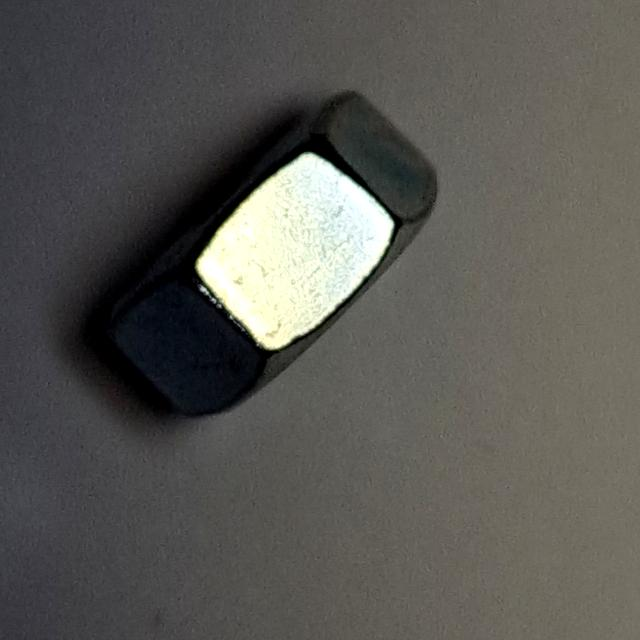Side_Excellent: (89, 77, 455, 437)
